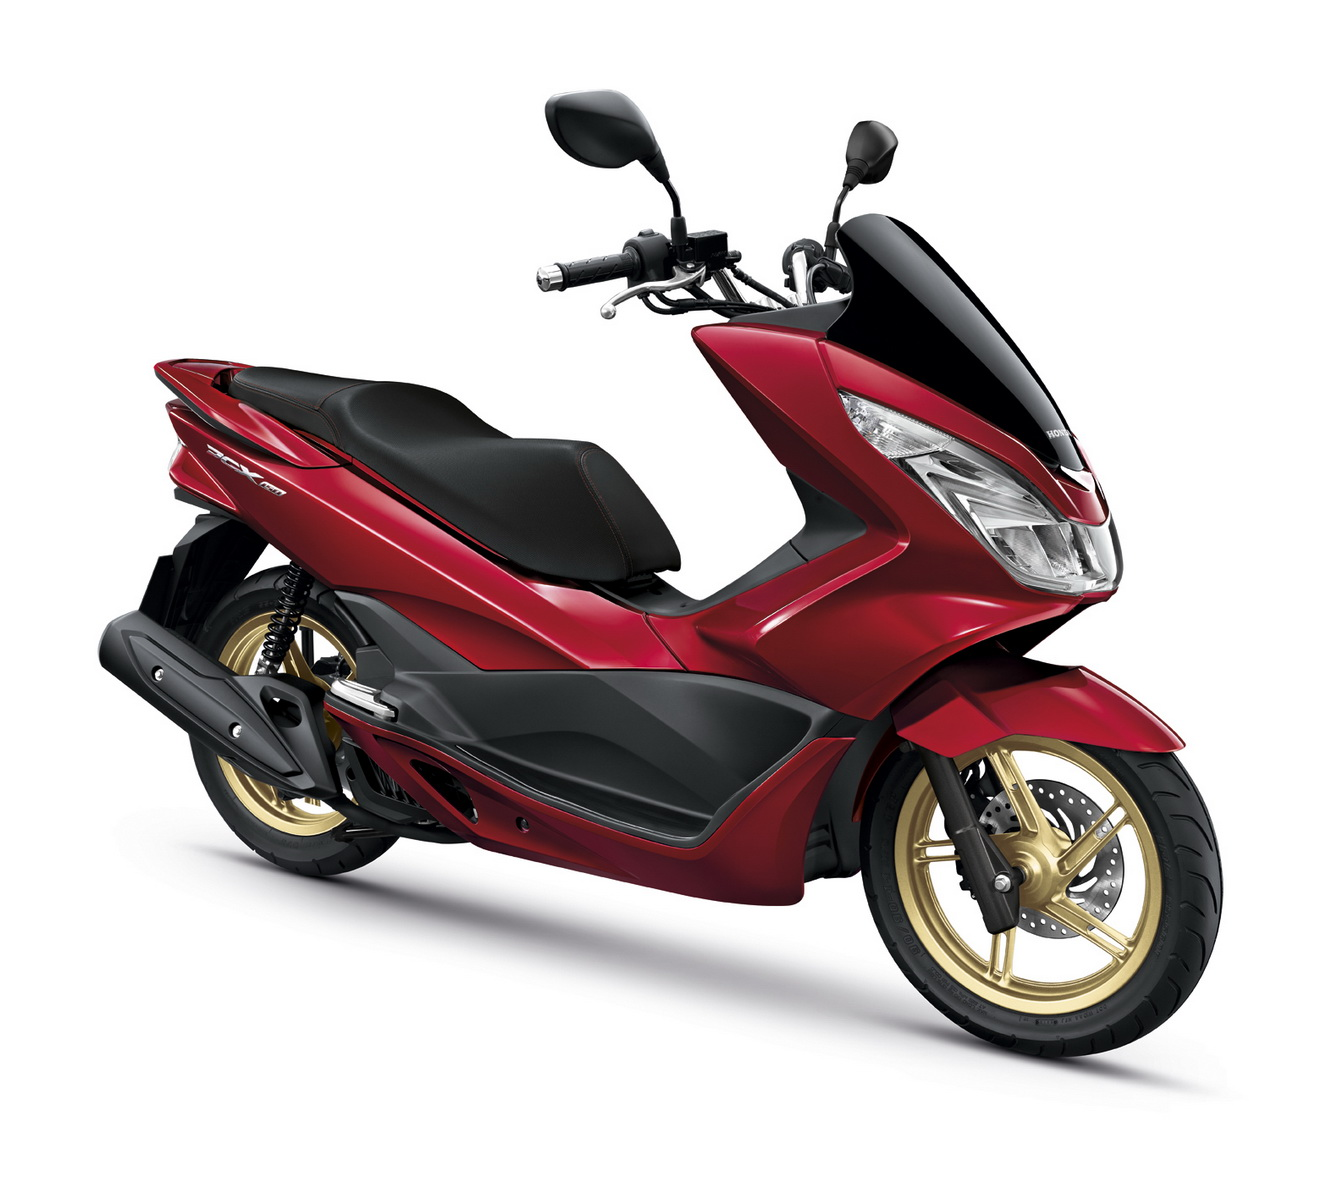motorcycle: (158, 223, 1225, 1056)
